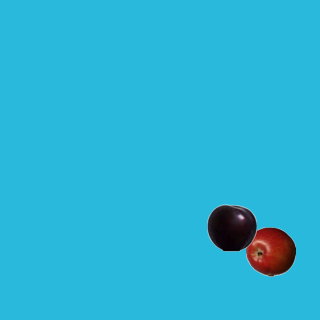Apple Braeburn: (245, 226, 295, 276)
Cherry Wax Black: (206, 202, 256, 252)
